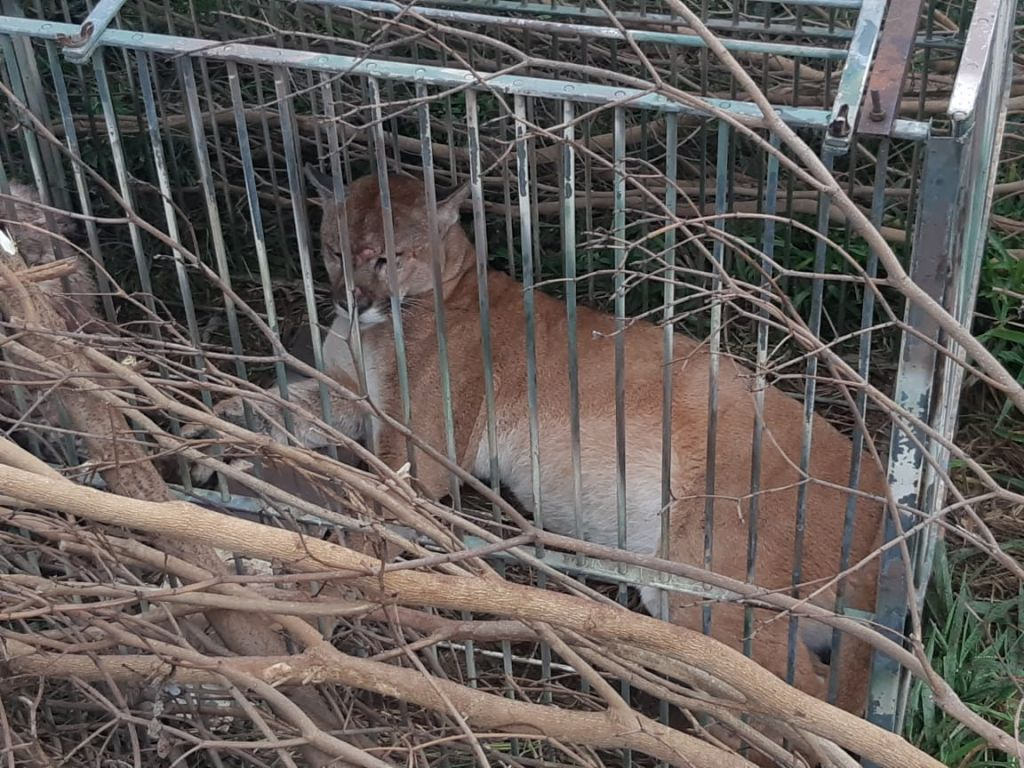OncaParda: (212, 162, 893, 686)
